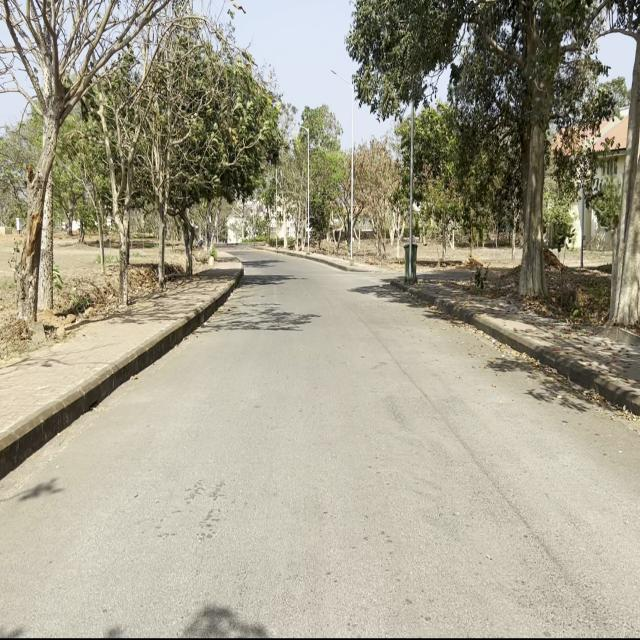Road: (3, 251, 638, 632)
